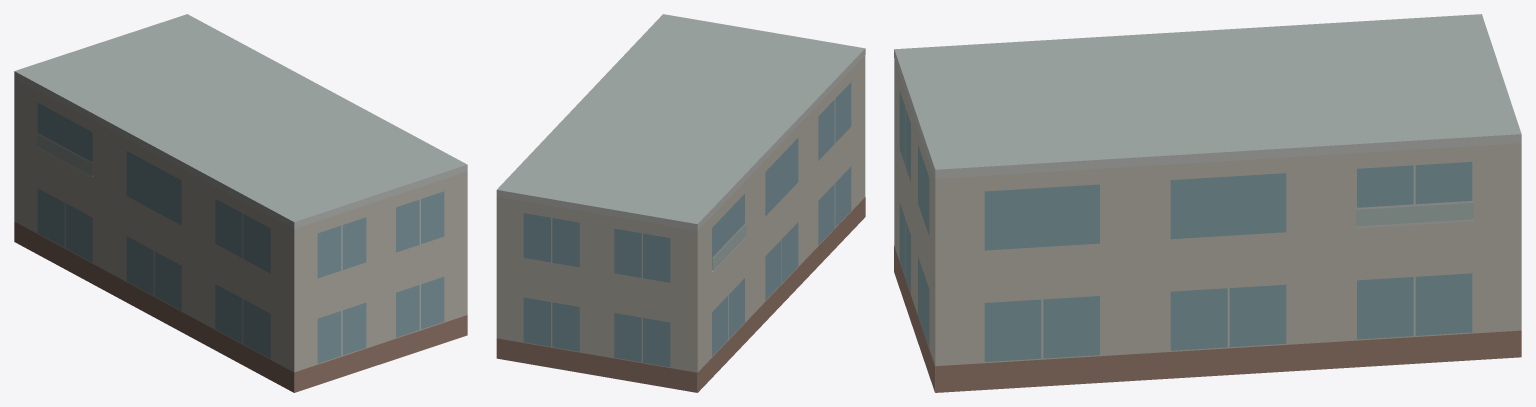
Rendered from survey-upis-32747521.glb.
3 views of the same model, side by side, from view 1: azimuth 30°, elevation 25°; view 2: azimuth 150°, elevation 25°; view 3: azimuth 270°, elevation 25° (orthographic). The views are drawn at different scales.
Visible parts, largest first — view 1: survey-upis-32747521.tmp; view 2: survey-upis-32747521.tmp; view 3: survey-upis-32747521.tmp.
Part boxes in pixels (x1=…): survey-upis-32747521.tmp: x1=14, y1=14, x2=467, y2=392; survey-upis-32747521.tmp: x1=496, y1=14, x2=865, y2=392; survey-upis-32747521.tmp: x1=894, y1=14, x2=1521, y2=392.
Size of the model in its own units: 9.14 by 6.1 by 15.56.
